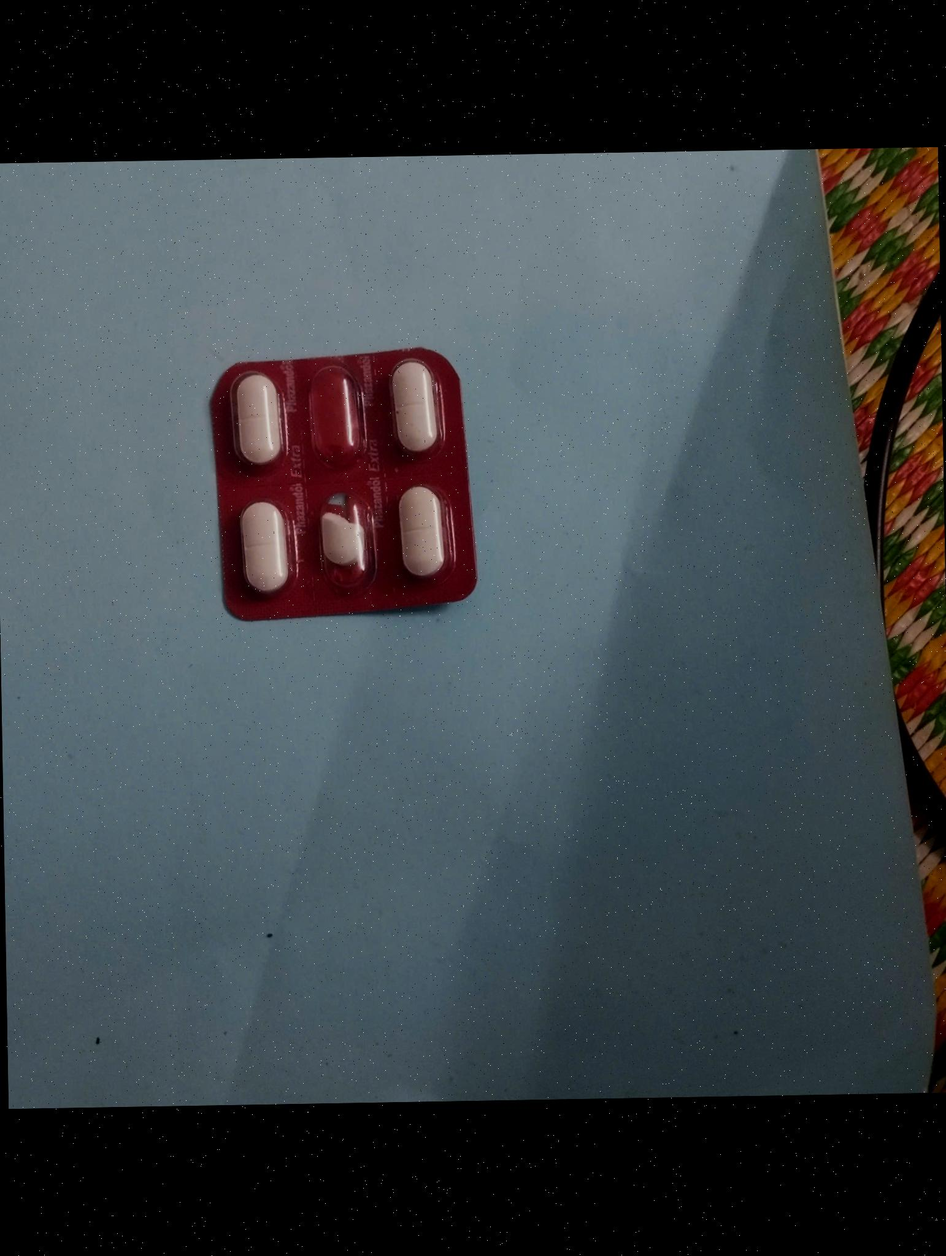Empty: (300, 358, 367, 469)
Full: (233, 497, 293, 597), (390, 487, 447, 581), (231, 362, 281, 467), (388, 357, 437, 461)
Partial: (309, 492, 369, 594)
